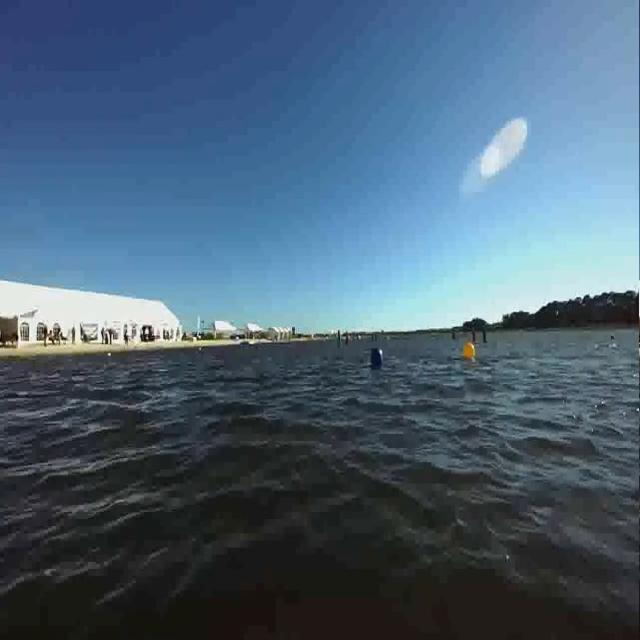blue-buoy: (368, 346, 382, 370)
yellow-buoy: (463, 340, 475, 361)
